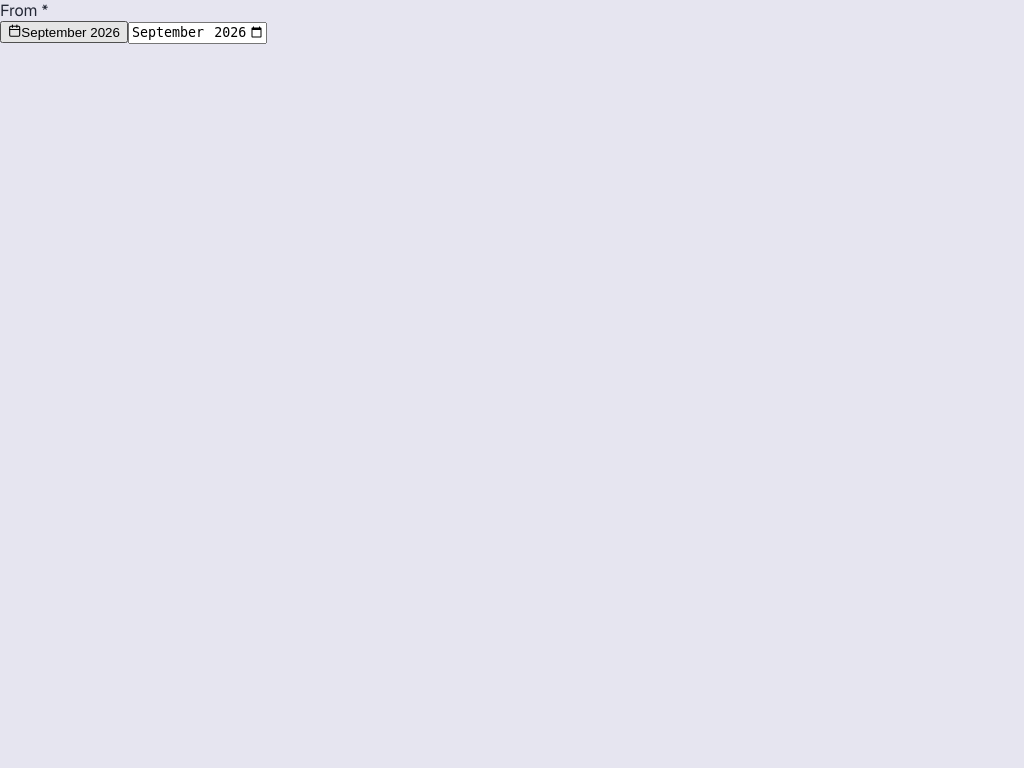
Test case: month field uses month picker
The width and height of the screenshot is (1024, 768).
Later steps or results of the test are not shown.
Expected: the text "September 2026" is shown, [21, 25, 120, 40]
Step 1. Click the dropdown labelled "September 2026" → (64, 32), box [0, 21, 128, 43]
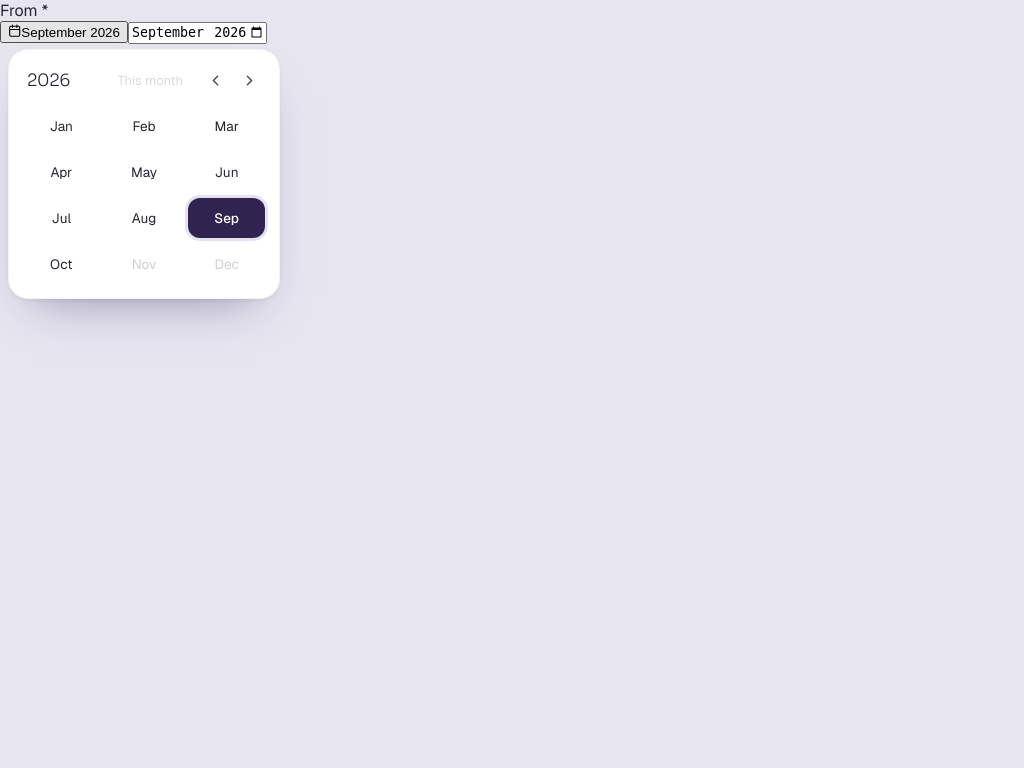
Result: the dialog named "Choose a month" is shown at [8, 49, 280, 299]
